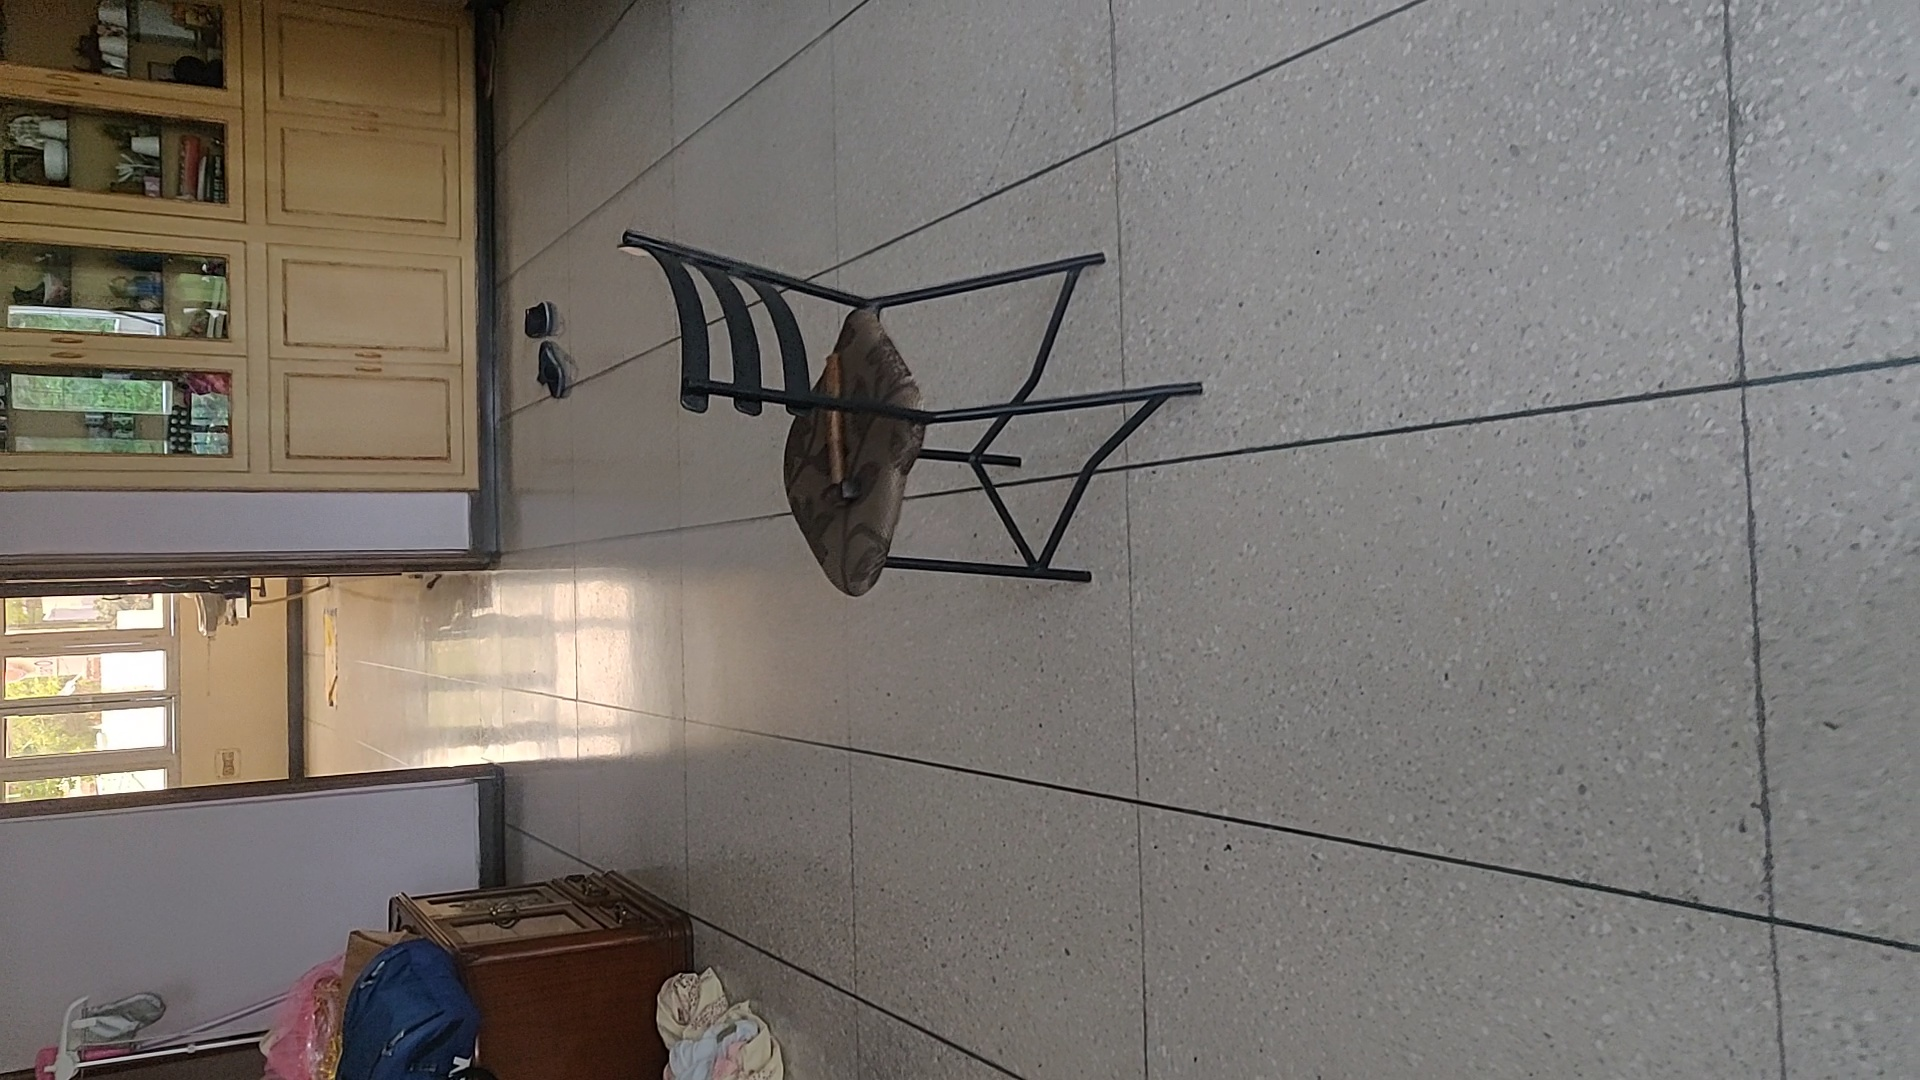hammer: (816, 348, 862, 512)
